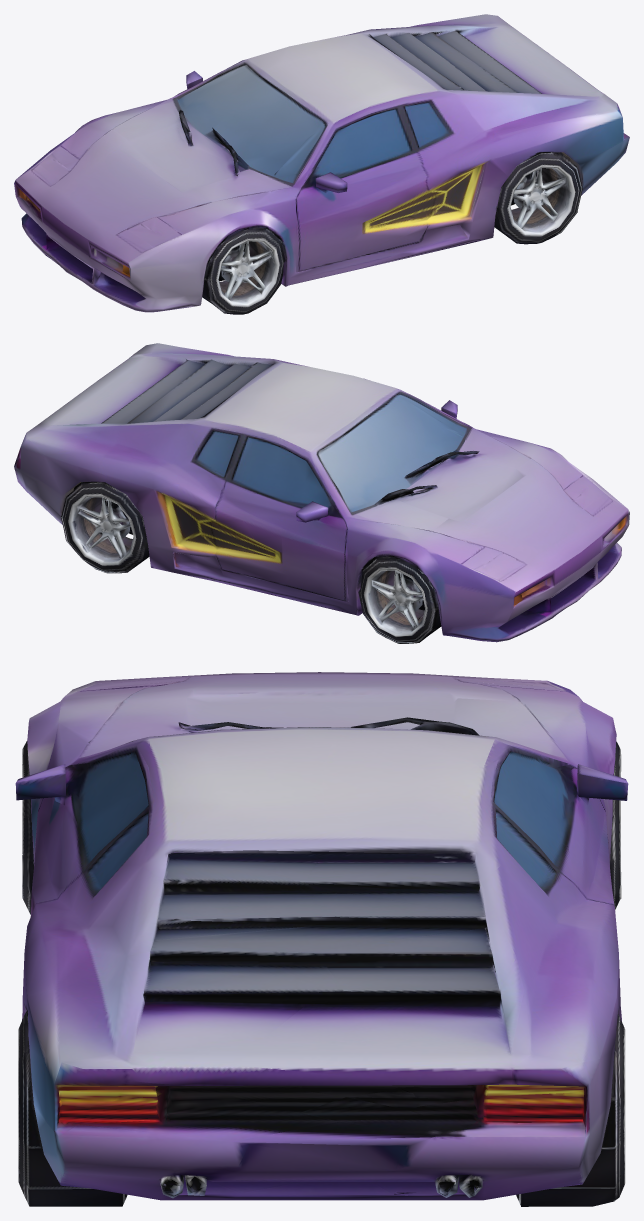
The model's file is vortex_gt.glb.
3 views of the same model, one above another, from view 1: azimuth 30°, elevation 25°; view 2: azimuth 150°, elevation 25°; view 3: azimuth 270°, elevation 25° (orthographic). The views are drawn at different scales.
Parts seen in each view (by area): view 1: tripo_node_2d302b81-77c6-4189-afbf-b57dadc6cb6f; view 2: tripo_node_2d302b81-77c6-4189-afbf-b57dadc6cb6f; view 3: tripo_node_2d302b81-77c6-4189-afbf-b57dadc6cb6f.
Boxes of the visible parts, x1,y1,x2,y2 form: tripo_node_2d302b81-77c6-4189-afbf-b57dadc6cb6f: (14,14,629,314); tripo_node_2d302b81-77c6-4189-afbf-b57dadc6cb6f: (14,343,629,643); tripo_node_2d302b81-77c6-4189-afbf-b57dadc6cb6f: (15,672,628,1206).
Size of the model in its own units: 0.9795 by 0.2786 by 0.5186.
Materials: 1 (1 with a texture image).
